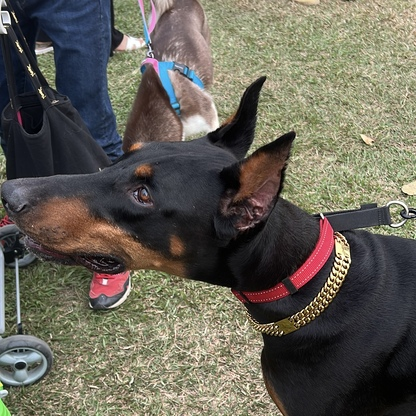doberman: (1, 72, 416, 414)
